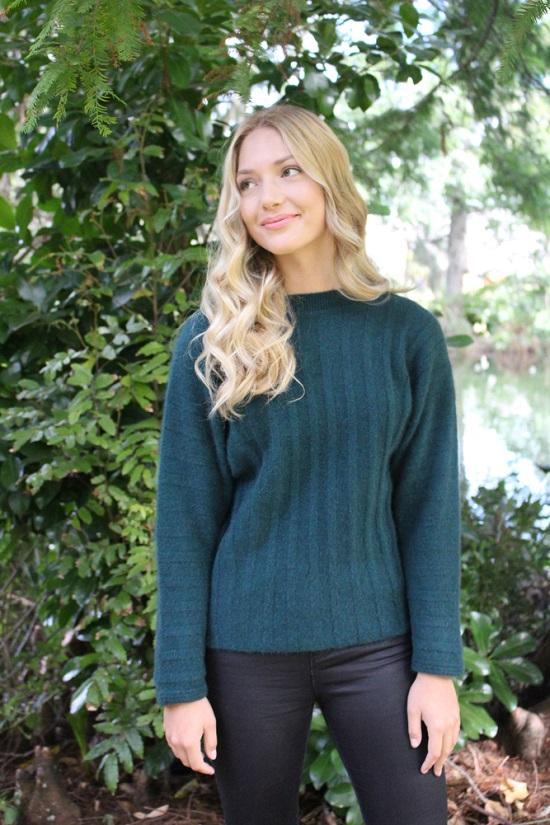sweater: (142, 285, 463, 709)
trousers: (192, 635, 452, 825)
